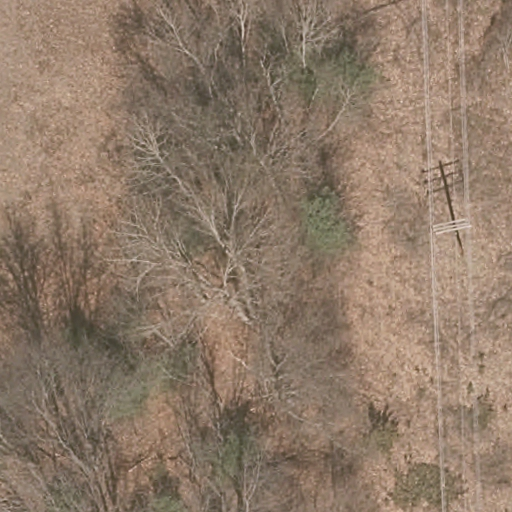DT: (431, 216, 472, 254)
